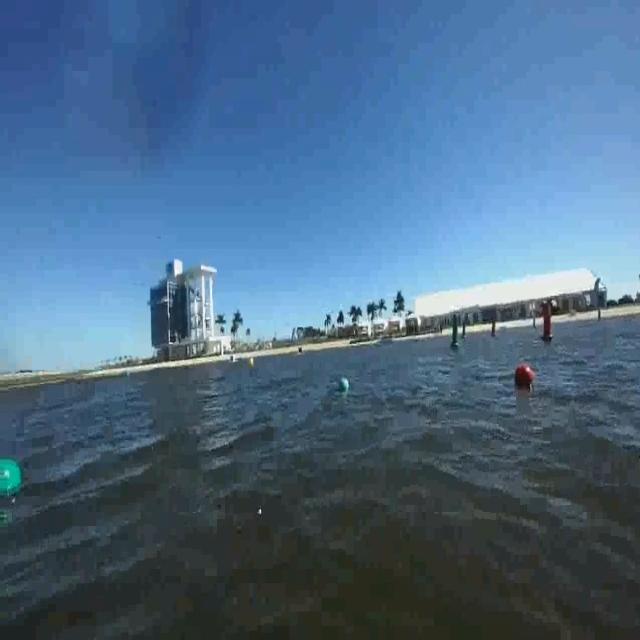green-buoy: (0, 458, 24, 498), (342, 378, 349, 392)
green-column-buoy: (449, 316, 458, 350)
red-buoy: (514, 364, 532, 385)
red-column-buoy: (542, 307, 555, 343)
yellow-buoy: (248, 356, 255, 369)
